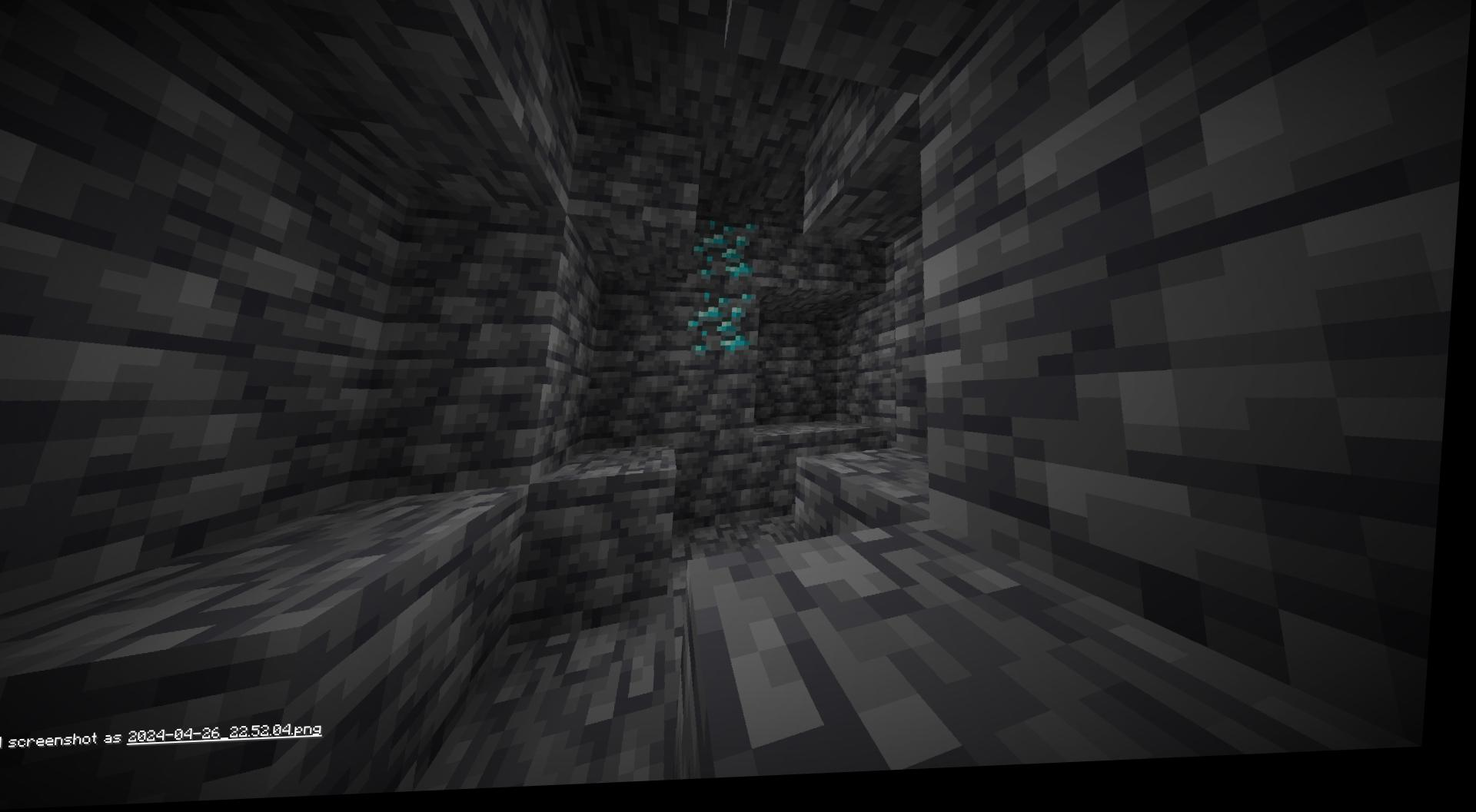diamond ore: (695, 294, 762, 364), (697, 227, 763, 294)
